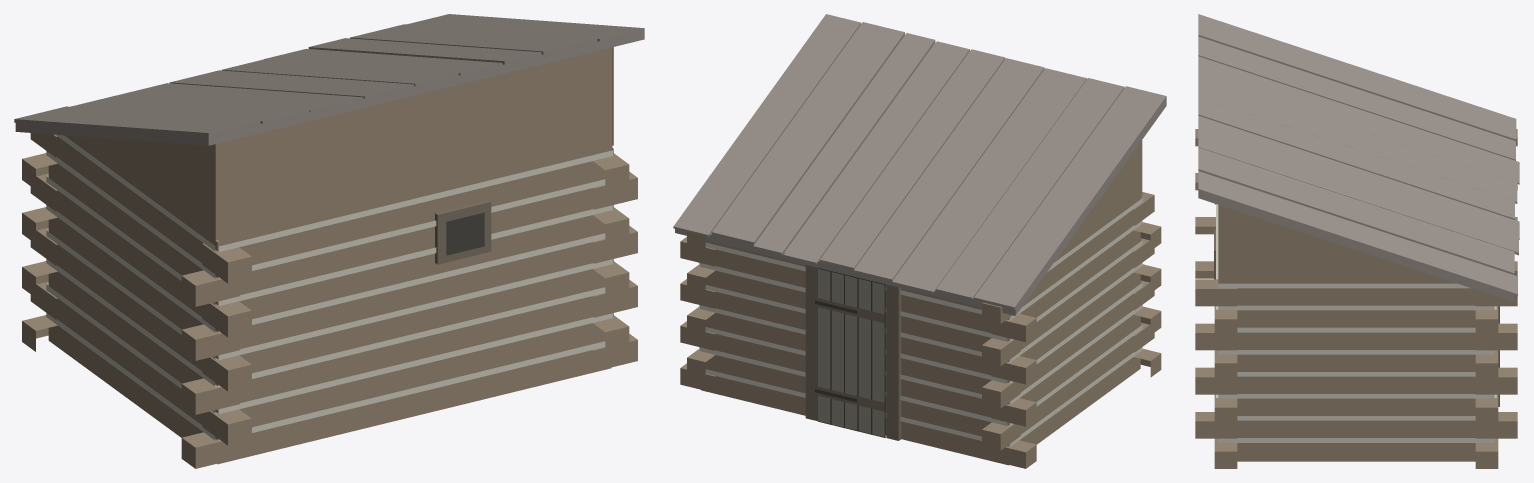
The model's file is fort_dearborn_out_building_b__out_building_b_1830.glb.
3 views of the same model, side by side, from view 1: azimuth 30°, elevation 25°; view 2: azimuth 150°, elevation 25°; view 3: azimuth 270°, elevation 25° (orthographic). The views are drawn at different scales.
Parts seen in each view (by area): view 1: fort_dearborn_out_building_b__out_building_b_1830; view 2: fort_dearborn_out_building_b__out_building_b_1830; view 3: fort_dearborn_out_building_b__out_building_b_1830.
Part boxes in pixels (box(x1,y1,x2,y2)): fort_dearborn_out_building_b__out_building_b_1830: box(14, 14, 644, 468); fort_dearborn_out_building_b__out_building_b_1830: box(673, 14, 1166, 468); fort_dearborn_out_building_b__out_building_b_1830: box(1195, 14, 1519, 468).
Bounding box in the file's own units: 4.38 × 3.27 × 3.4.
